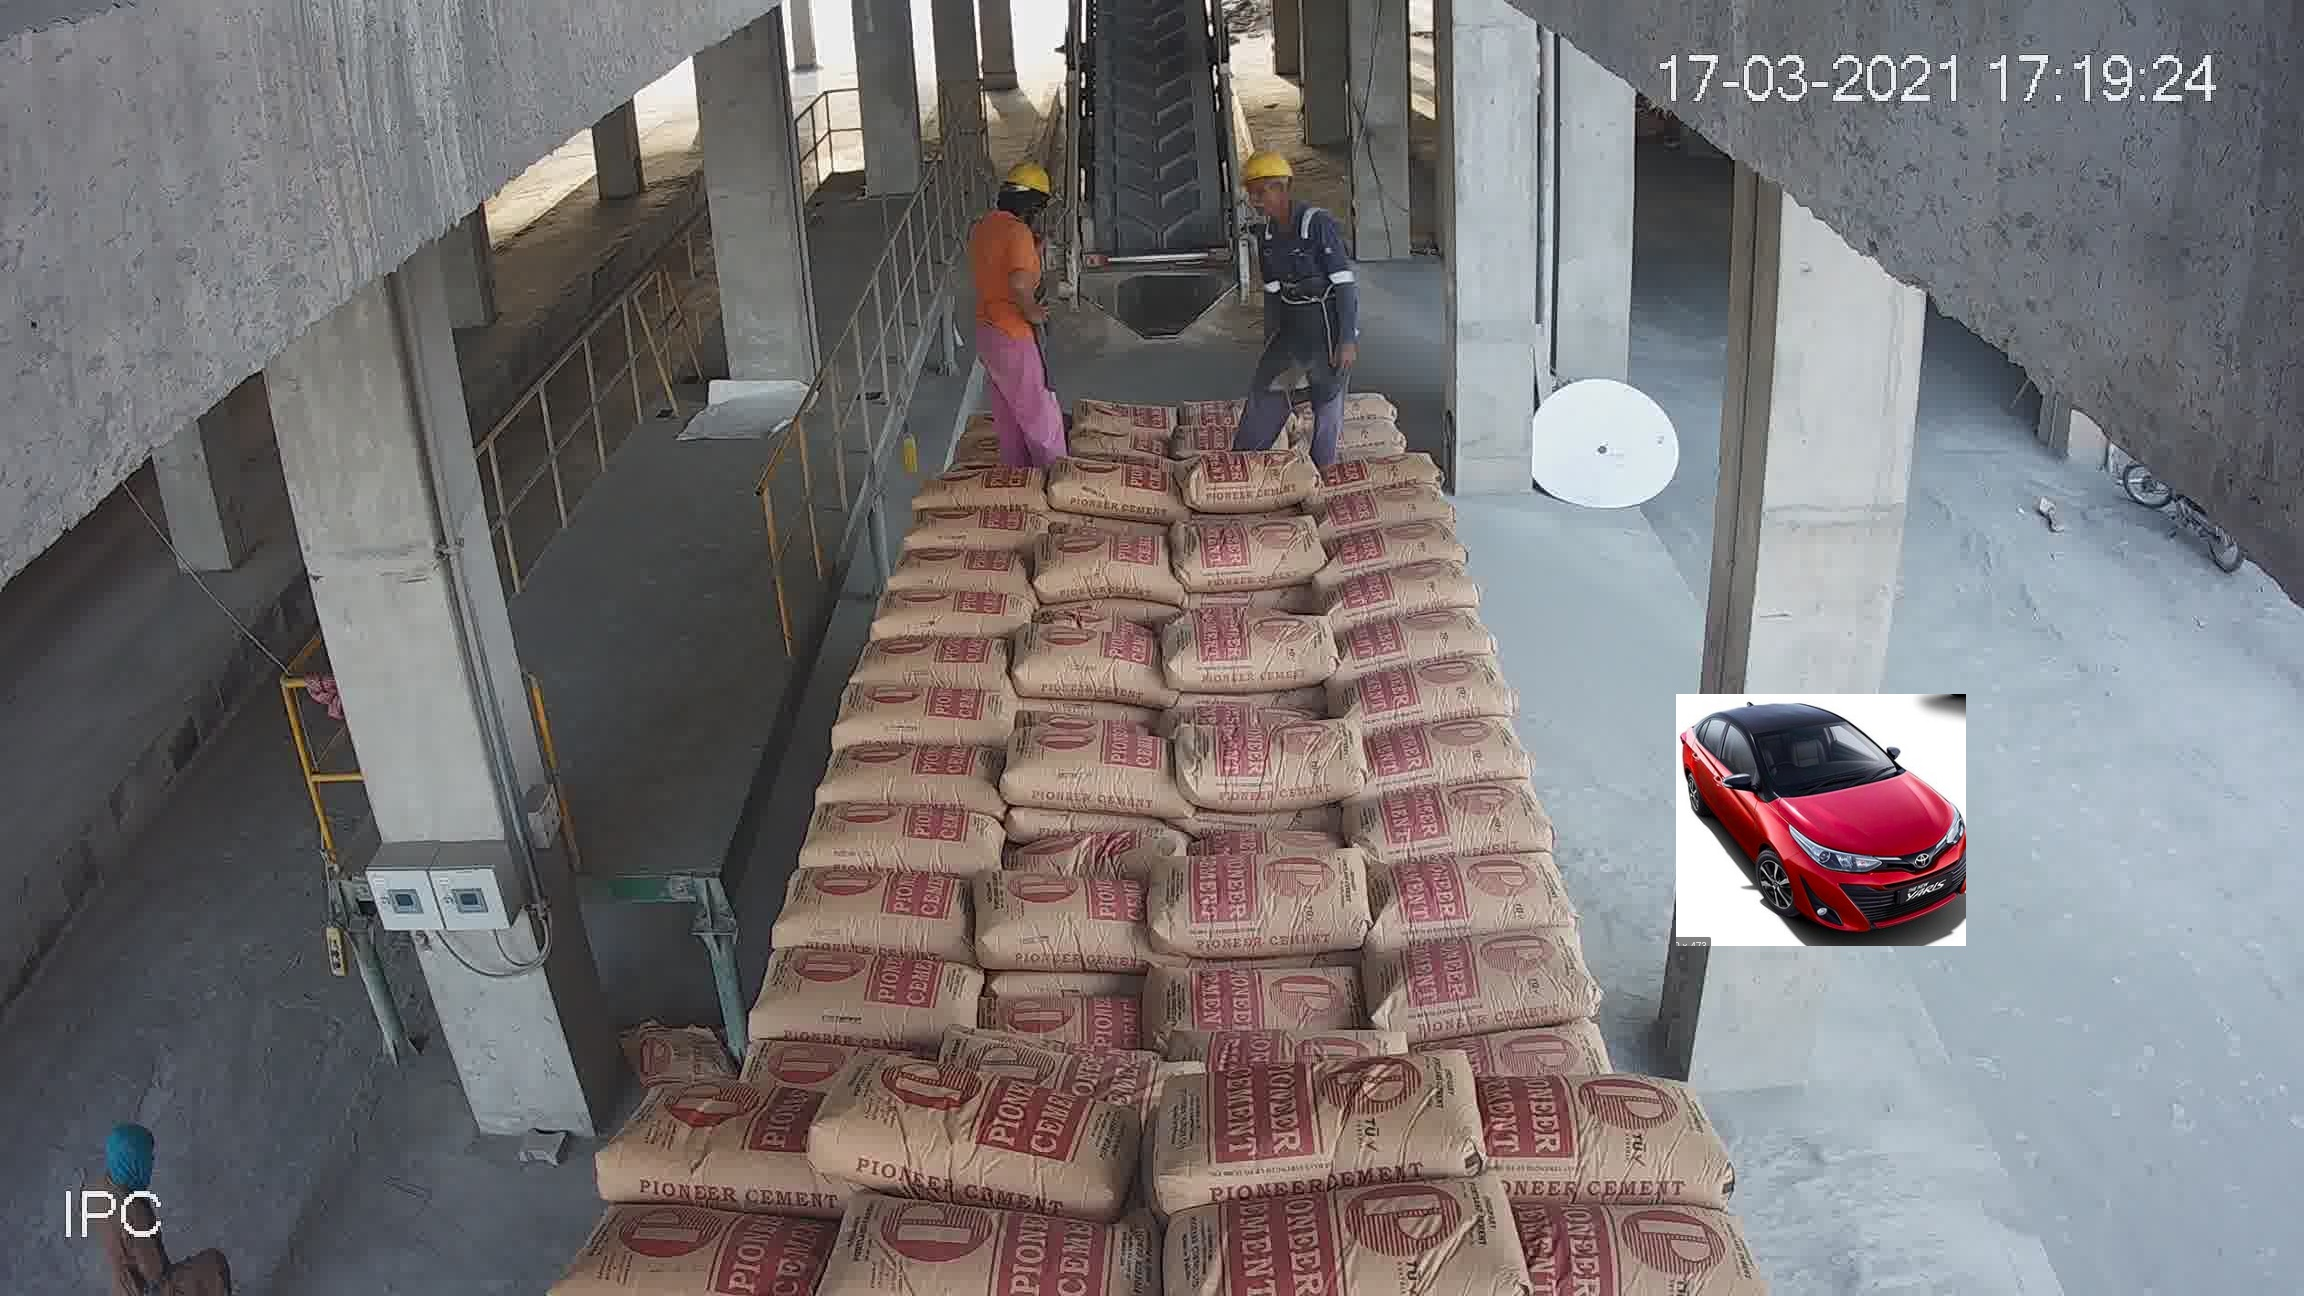bag_h: (798, 1060, 1147, 1214), (1154, 1048, 1484, 1193), (1182, 1187, 1500, 1296), (1437, 1078, 1720, 1199), (601, 1060, 823, 1212), (703, 946, 1010, 1046), (1369, 932, 1608, 1044), (1146, 847, 1375, 961), (1513, 1199, 1777, 1296), (837, 1220, 1161, 1296), (744, 848, 970, 953), (785, 720, 1010, 810), (1381, 859, 1590, 956), (1353, 709, 1544, 812), (1356, 774, 1559, 870), (790, 783, 1005, 869), (1166, 1013, 1399, 1090), (578, 1211, 818, 1285), (978, 870, 1150, 972), (972, 1002, 1195, 1079), (828, 673, 1027, 755), (1356, 658, 1525, 752), (1180, 722, 1374, 802), (1032, 521, 1188, 619), (1163, 604, 1345, 688), (1135, 961, 1358, 1029), (1169, 510, 1347, 590), (1324, 597, 1499, 677), (1002, 620, 1171, 699), (994, 725, 1166, 799), (1005, 817, 1196, 881), (1176, 435, 1323, 517), (853, 585, 1036, 649), (984, 984, 1122, 1057), (1342, 562, 1483, 631), (1334, 524, 1472, 585), (1052, 459, 1185, 522), (839, 636, 1014, 684), (873, 549, 1029, 600), (1334, 468, 1453, 533), (1462, 1022, 1627, 1067), (892, 508, 1032, 555), (910, 459, 1036, 510), (1310, 445, 1451, 489), (1065, 427, 1195, 472), (1074, 377, 1180, 427)
belt: (1063, 19, 1244, 291)
